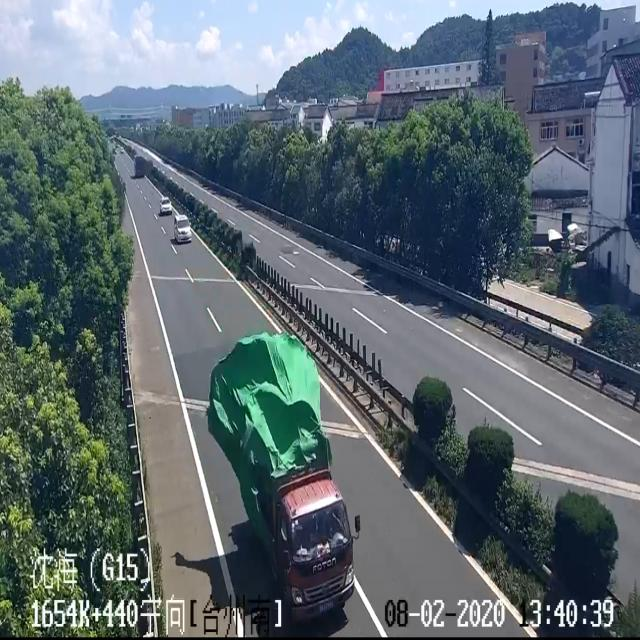point: (94, 91, 208, 260)
